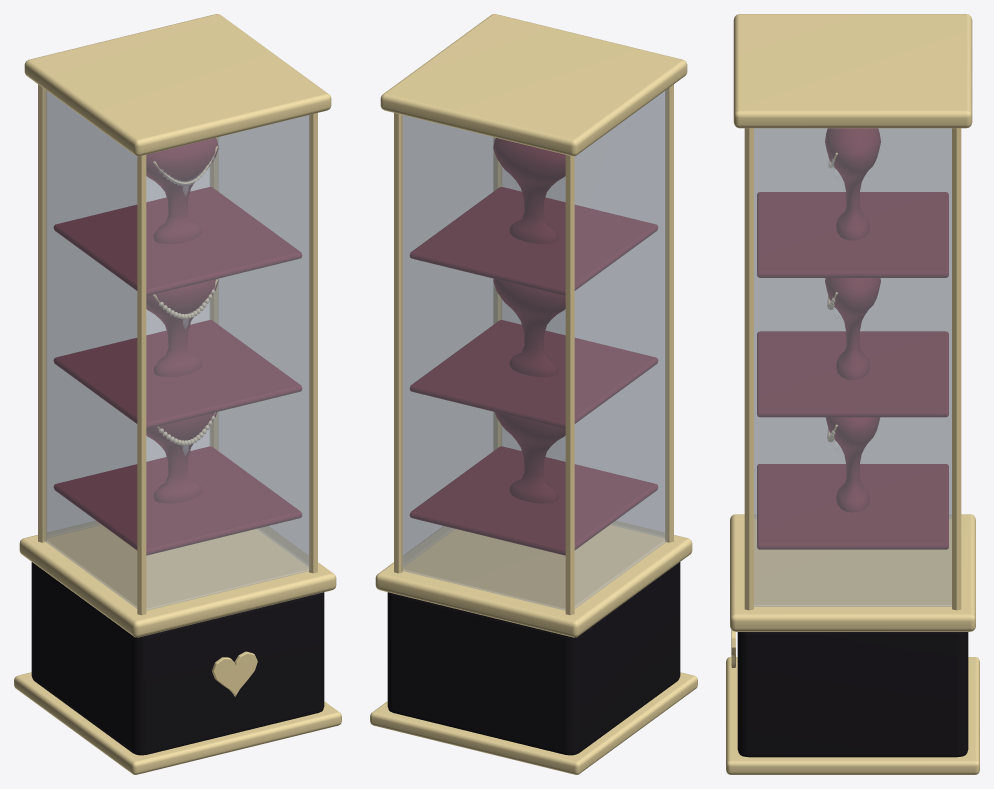
Rendered from case_tower_glass.glb.
The picture shows the model from 3 angles, left to right: view 1: azimuth 30°, elevation 25°; view 2: azimuth 150°, elevation 25°; view 3: azimuth 270°, elevation 25°; orthographic projection. The views are drawn at different scales.
Parts seen in each view (by area): view 1: case_tower_glass; view 2: case_tower_glass; view 3: case_tower_glass.
Boxes of the visible parts, left/top/right/bottom form: case_tower_glass: left=14, top=14, right=341, bottom=774; case_tower_glass: left=370, top=14, right=697, bottom=774; case_tower_glass: left=726, top=14, right=979, bottom=774.
Bounding box in the file's own units: 0.66 × 1.89 × 0.66.
